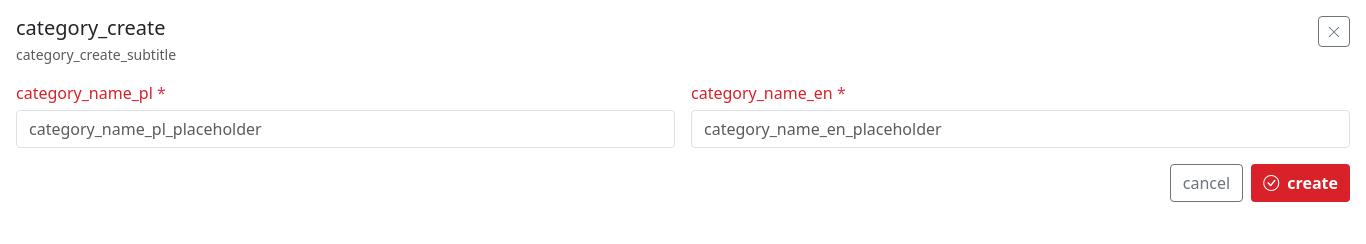
Test: CategoryFormModal › Create Mode › displays field errors from backend validation failure
Type "A" into the field labelled "category_name_pl *". click: (346, 129)
box: [16,110,675,148]
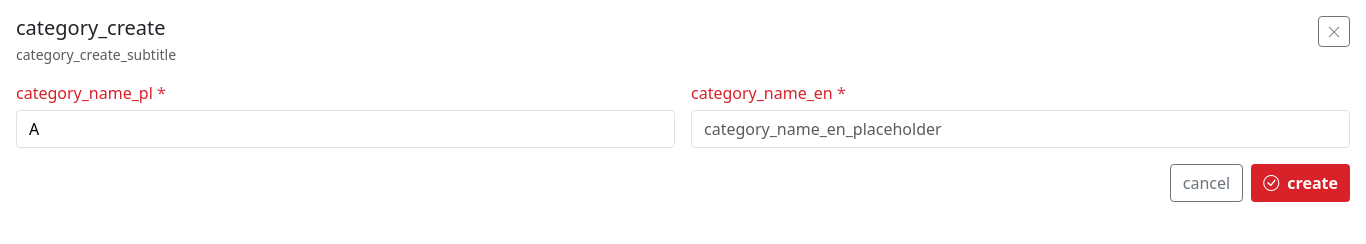
Submit the text "create", box [16,65,1350,202]
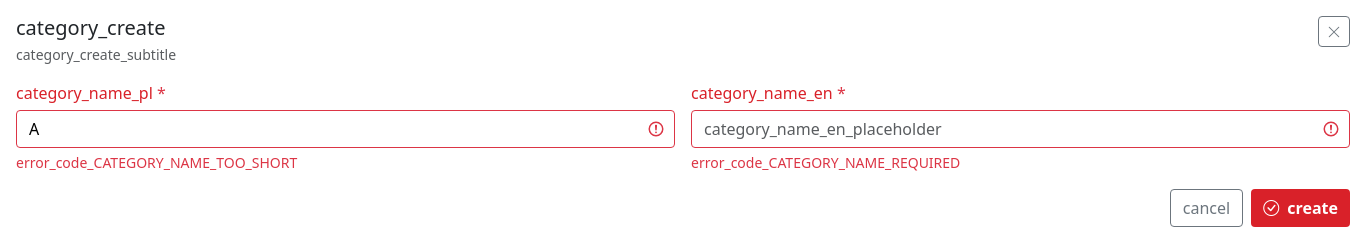
Expected: the text "error_code_CATEGORY_NAME_TOO_SHORT" is shown, [16,153,297,172]
Expected: the text "error_code_CATEGORY_NAME_REQUIRED" is shown, [691,153,960,172]
